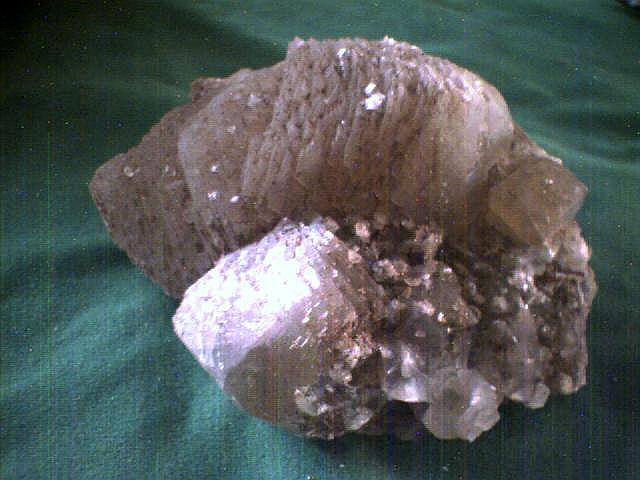calcite: (91, 38, 598, 442)
